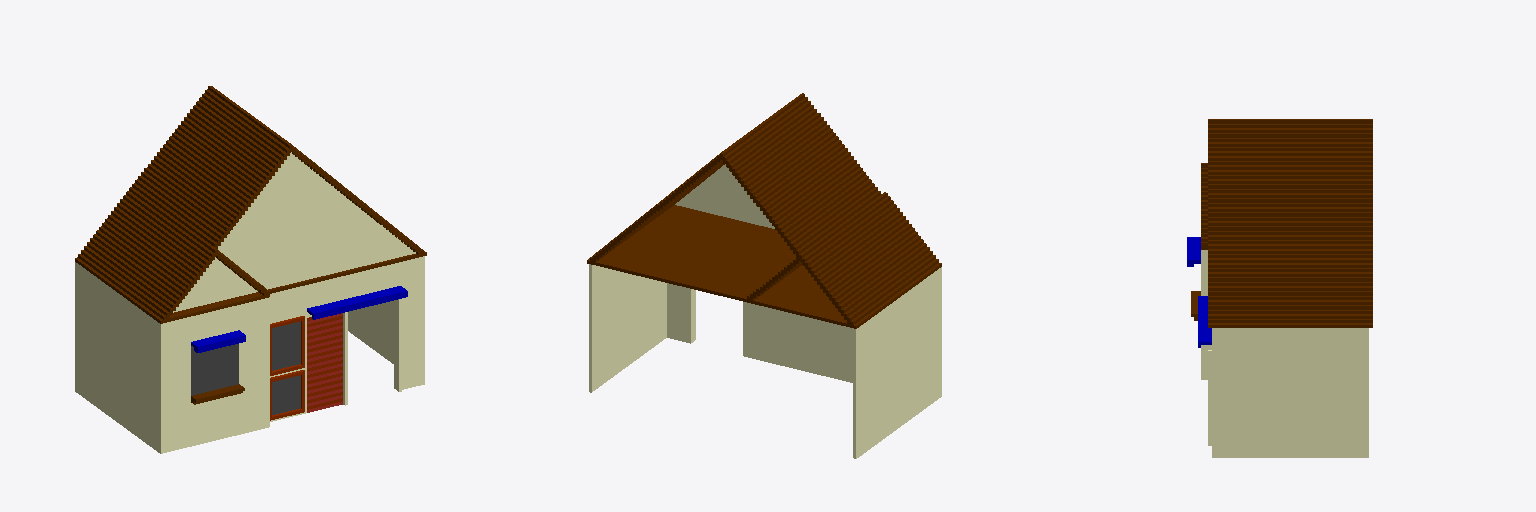
The picture shows the model from 3 angles: view 1: azimuth 30°, elevation 25°; view 2: azimuth 150°, elevation 25°; view 3: azimuth 270°, elevation 25°; orthographic projection.
Parts seen in each view (by area): view 1: cake_shop-0; view 2: cake_shop-0; view 3: cake_shop-0.
Part boxes in pixels (x1,y1,x2,y2): cake_shop-0: (75, 86, 426, 453); cake_shop-0: (587, 93, 941, 458); cake_shop-0: (1187, 119, 1372, 457).
Bounding box in the file's own units: 89 × 86 × 53.
1 materials, 1 textured.